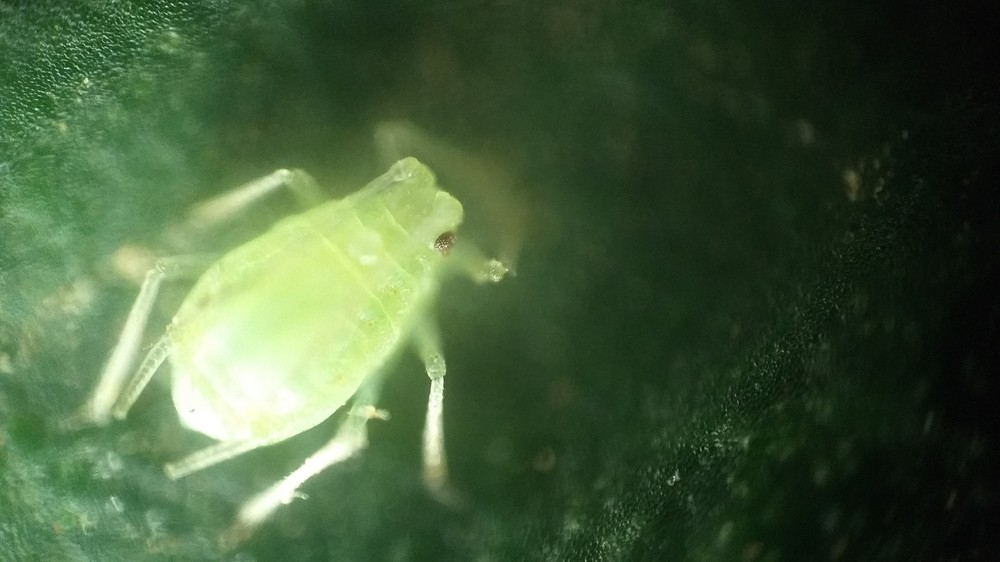Pulgon: (66, 109, 523, 524)
